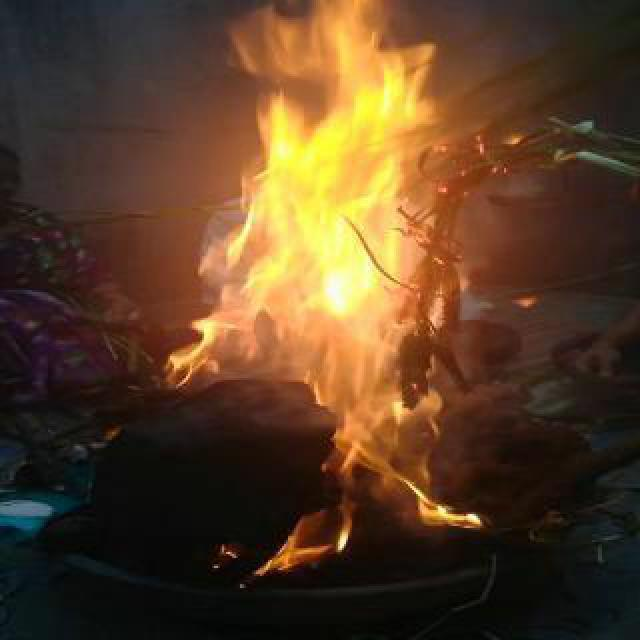Fire: (180, 2, 498, 580)
